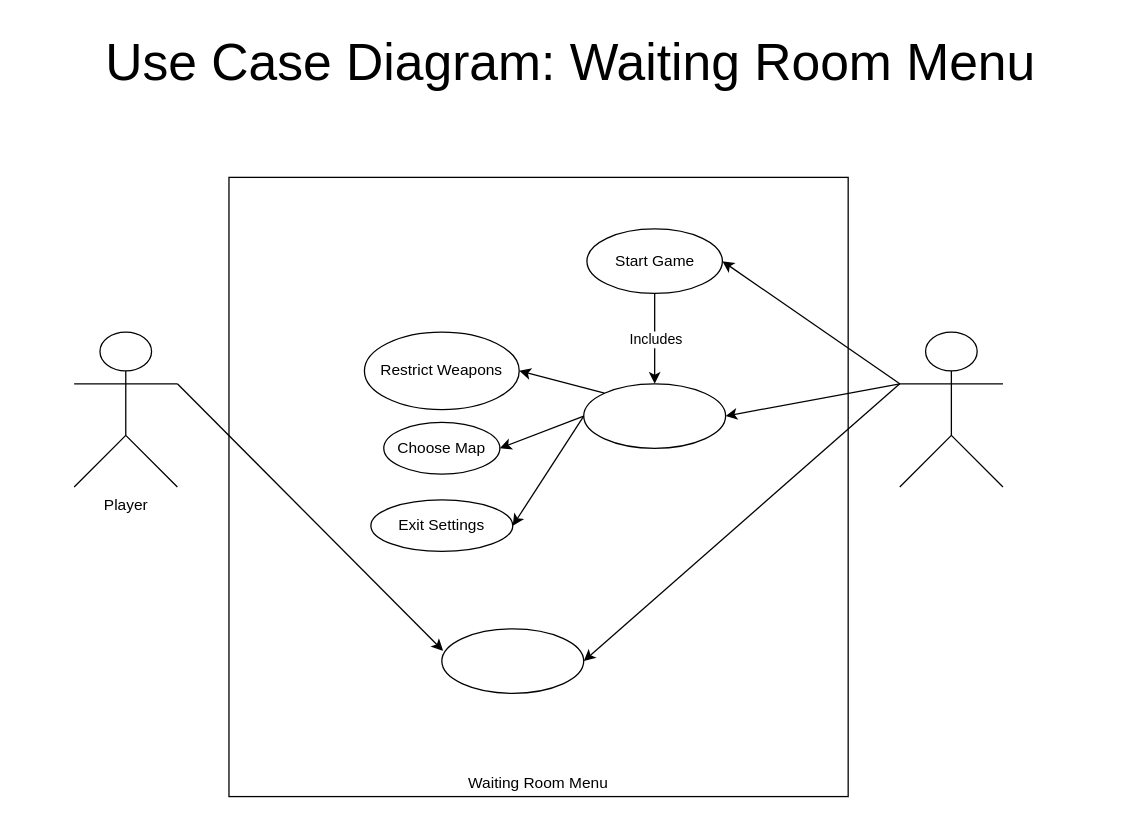
Image size: 1140x819. Some labels were removed from this diagram. Here are the shapes that lost their labels. From the top down, the centre of each, then its label:
point (654, 415): Settings
point (950, 409): Host Player
point (512, 660): Leave Room
